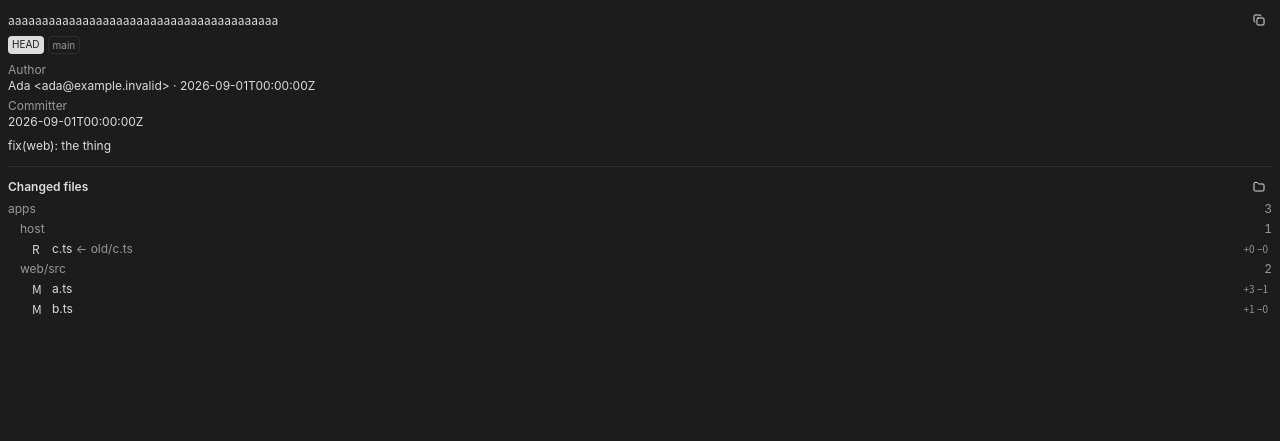
Test case: 提交详情 › 点一个文件在同一栏里展开差异
What coordinates should you click on to do the following:
click the text "a.ts"
I would click on:
 (62, 288)
Its box is [52,281,72,296].
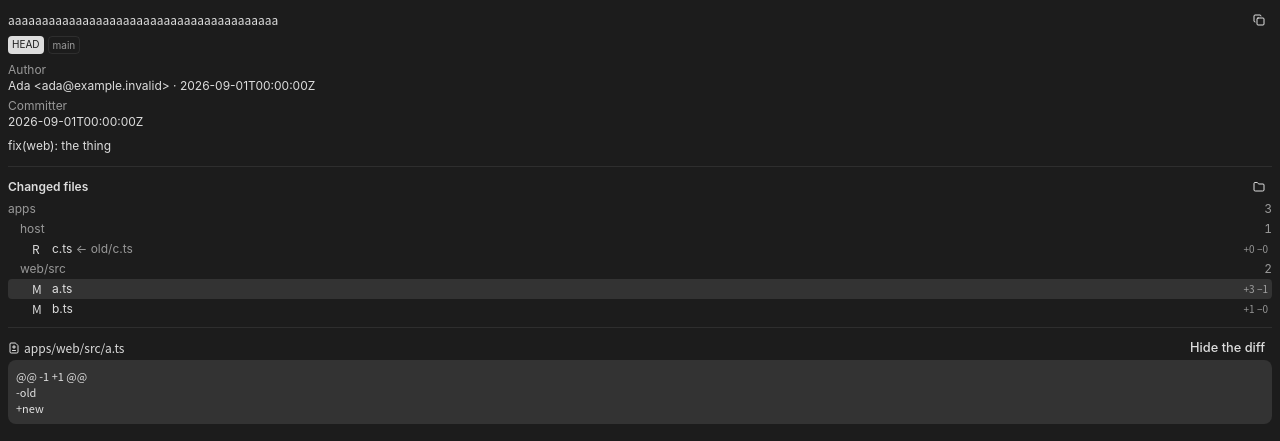
Now the text named "File diff" shows "+new", box [16,368,87,416]
